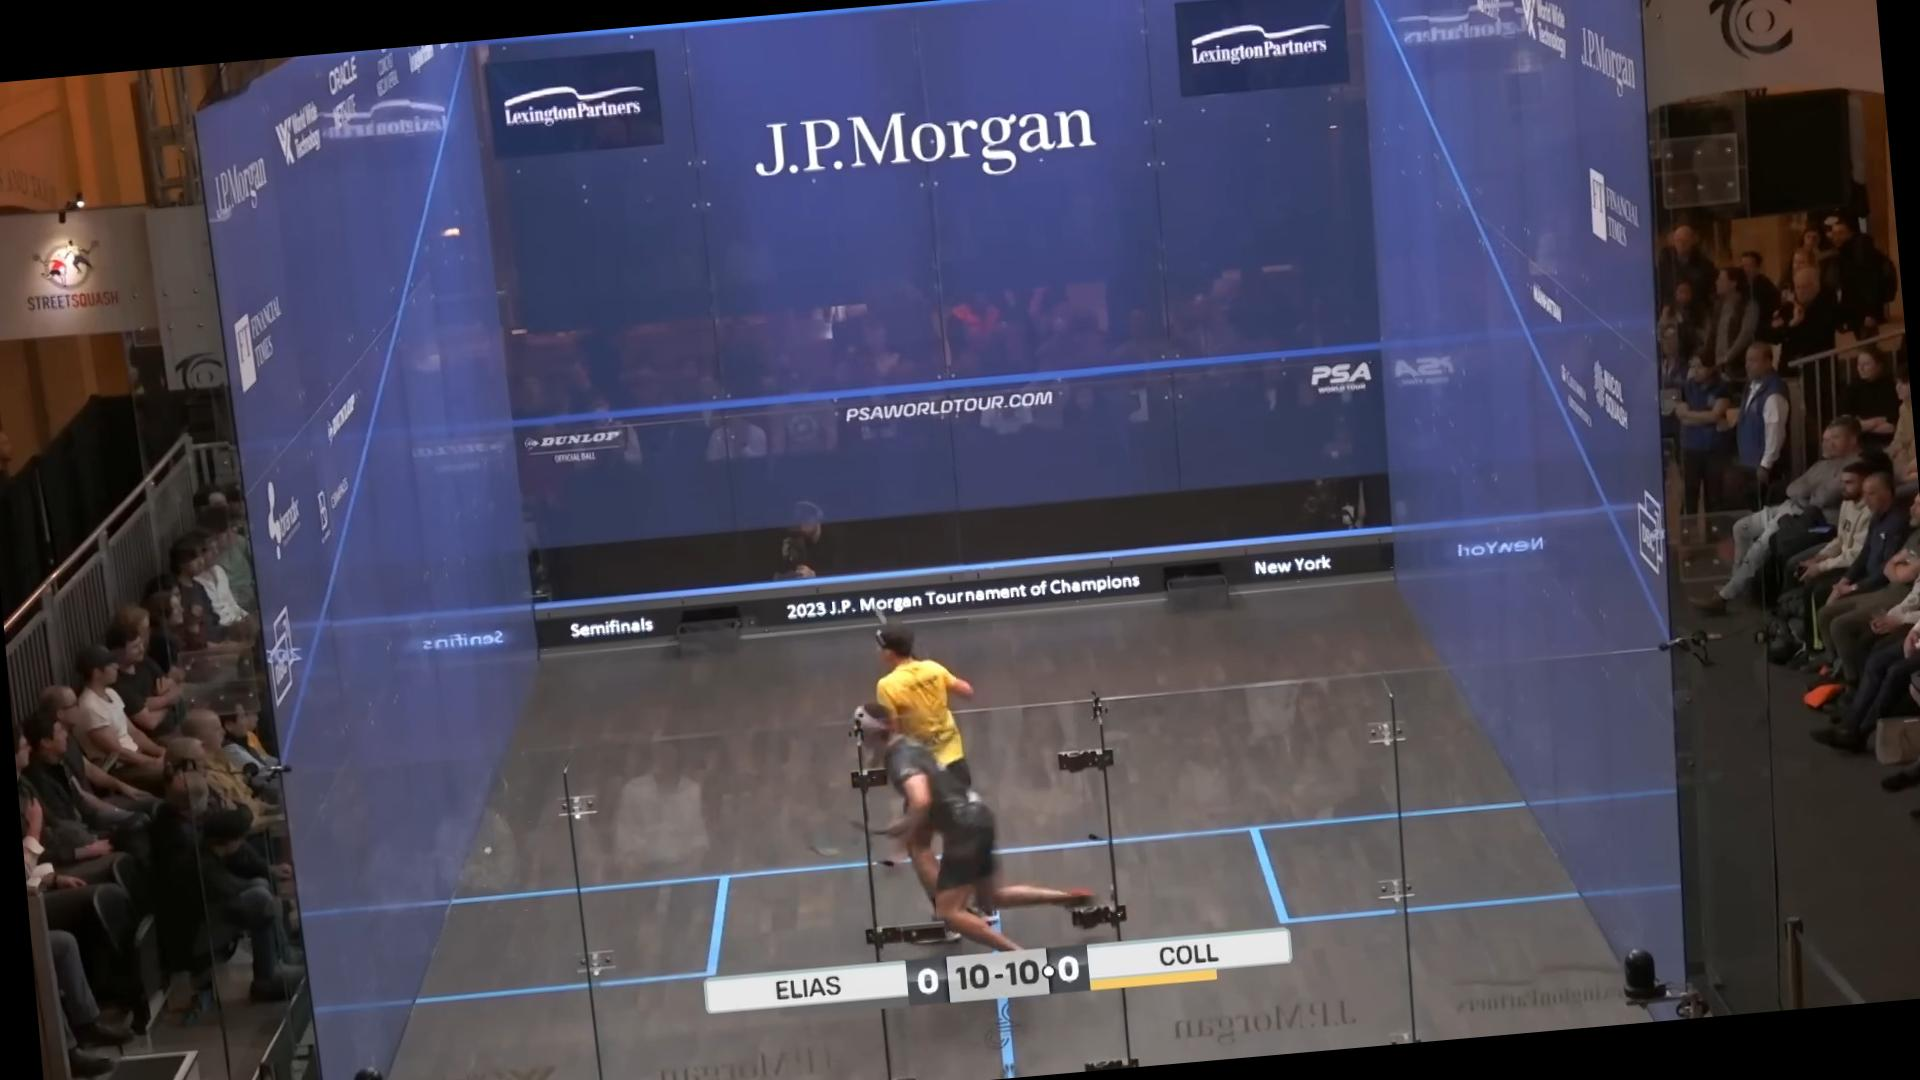Racket: (791, 796, 897, 862)
